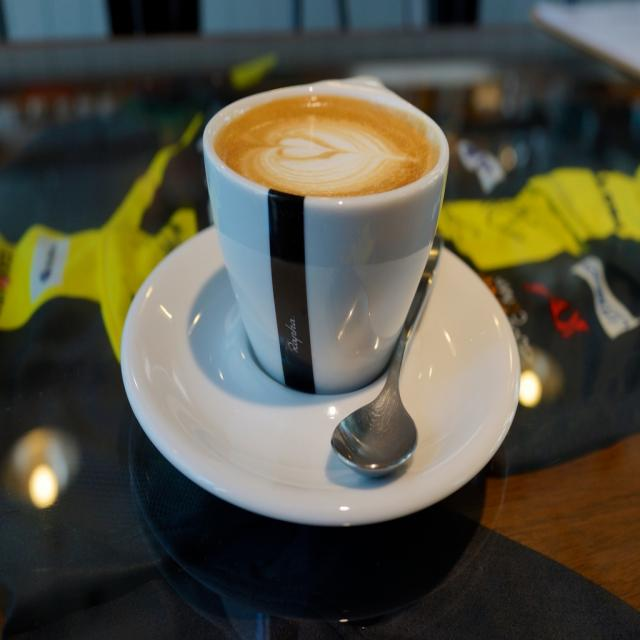Coffee: (202, 87, 452, 400)
